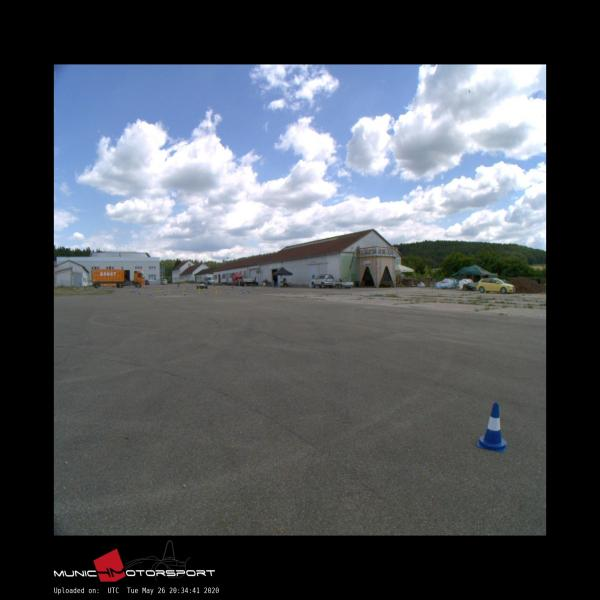blue_cone: (477, 402, 507, 453)
